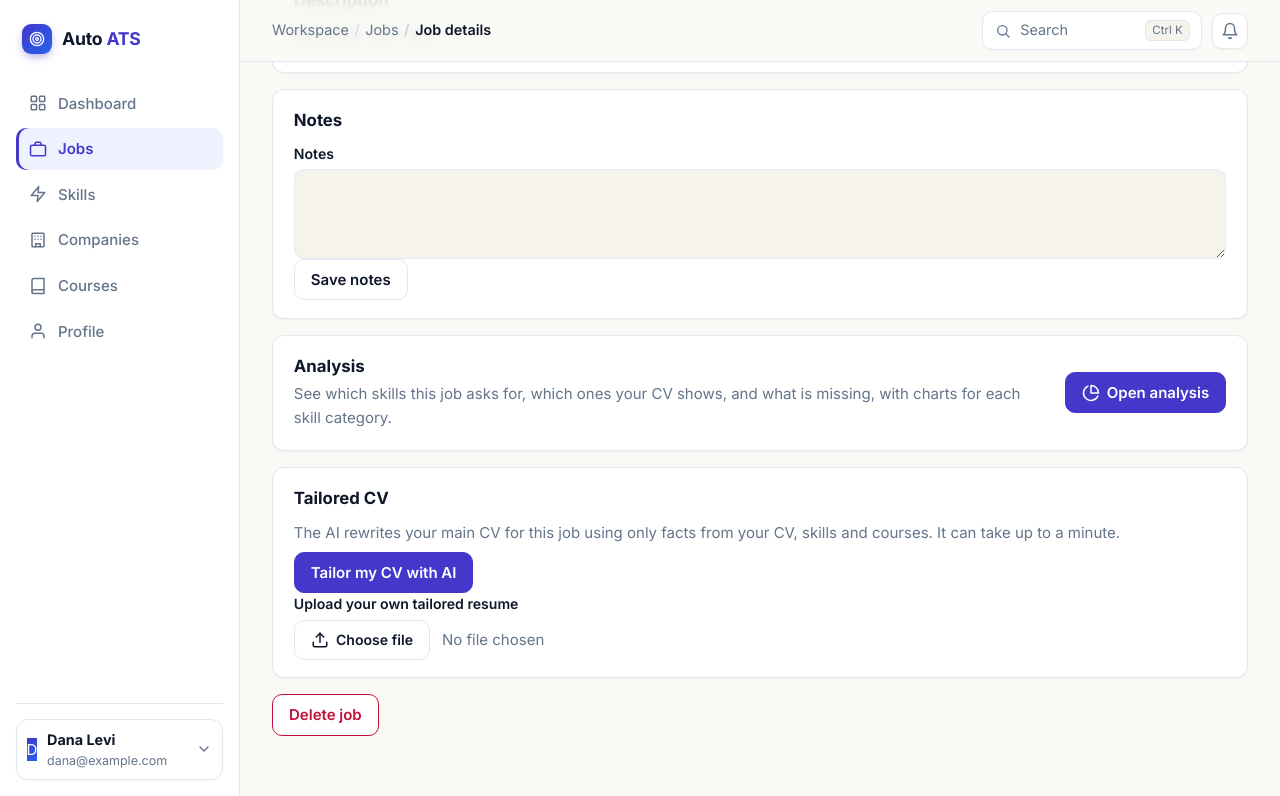
Test: JobDetailPage AI tailoring › GivenAiUnavailable_WhenTailoring_ThenServerMessageIsShown
(page scrolled)
Click the button "Tailor my CV with AI".
click(384, 573)  # box [294, 552, 473, 594]
(page scrolled)
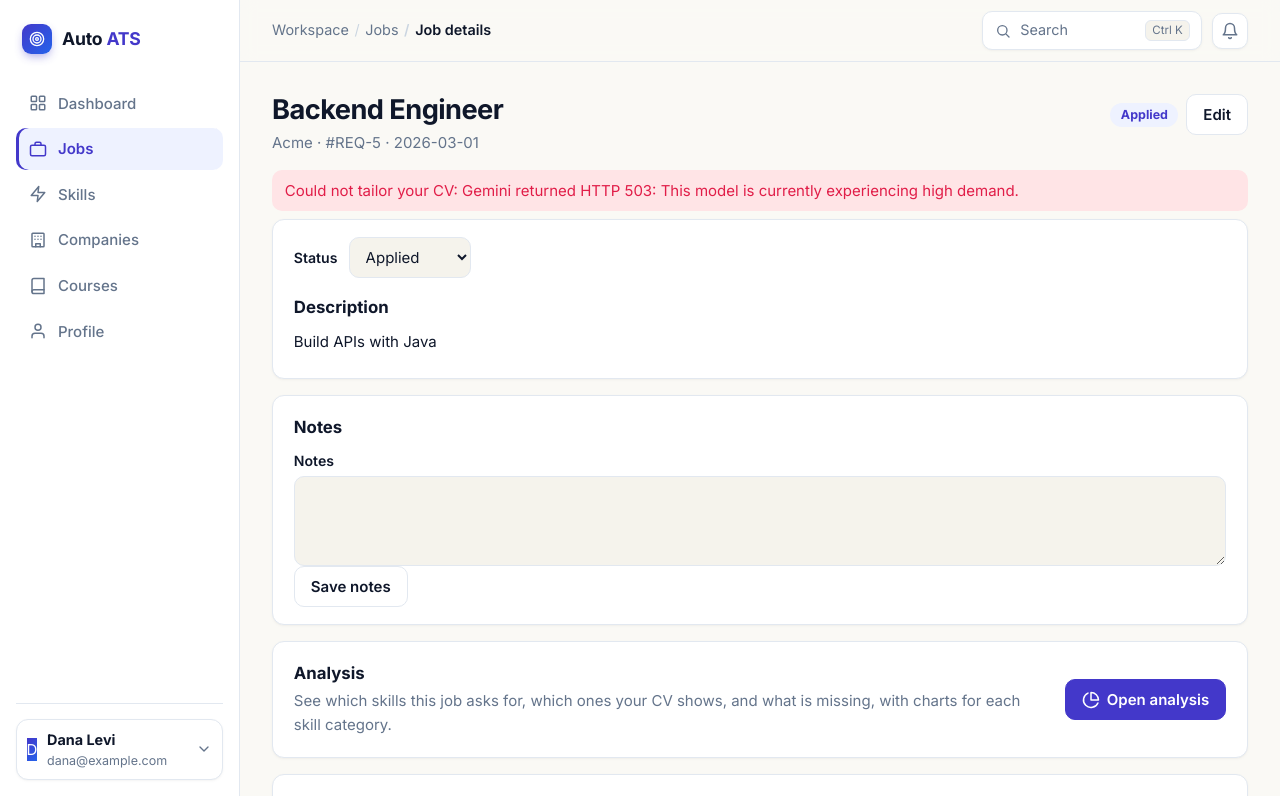
expect the message shows "high demand": met, box [285, 181, 1019, 200]
